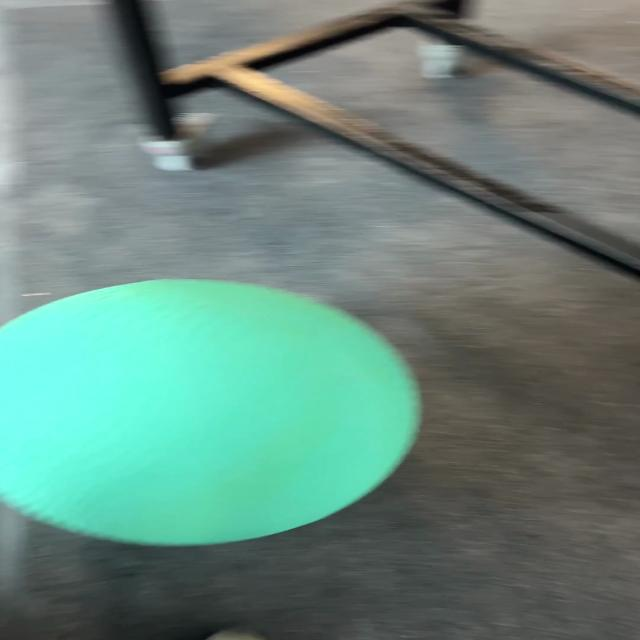Algae: (0, 277, 422, 547)
